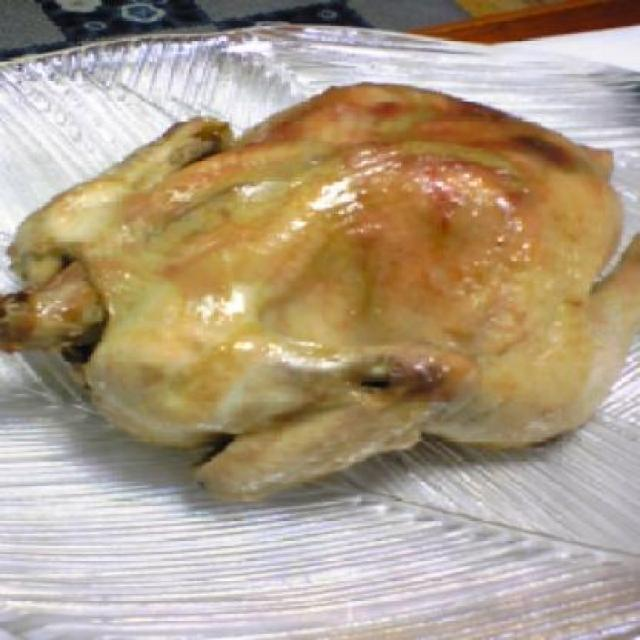Chicken roast: (45, 96, 638, 470)
